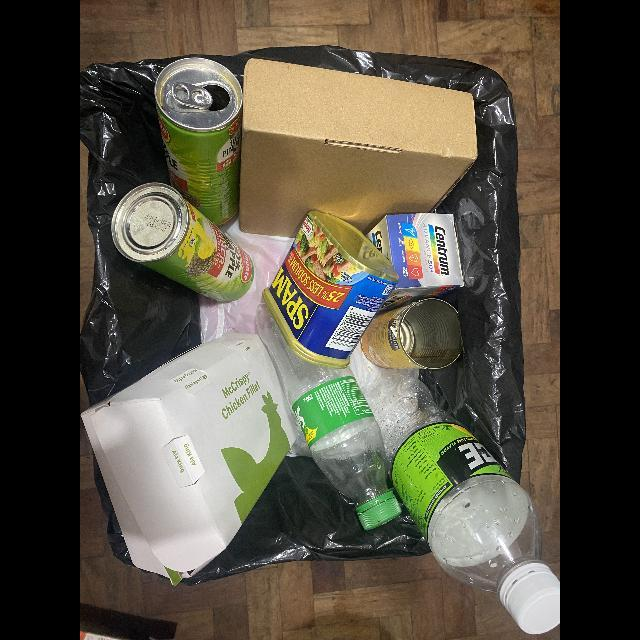metal: (262, 210, 399, 370), (111, 183, 254, 303), (154, 57, 243, 227), (361, 299, 463, 370)
paper: (80, 333, 299, 587), (239, 58, 478, 239), (365, 213, 464, 311)
plastic: (361, 370, 560, 636), (256, 302, 402, 531)
